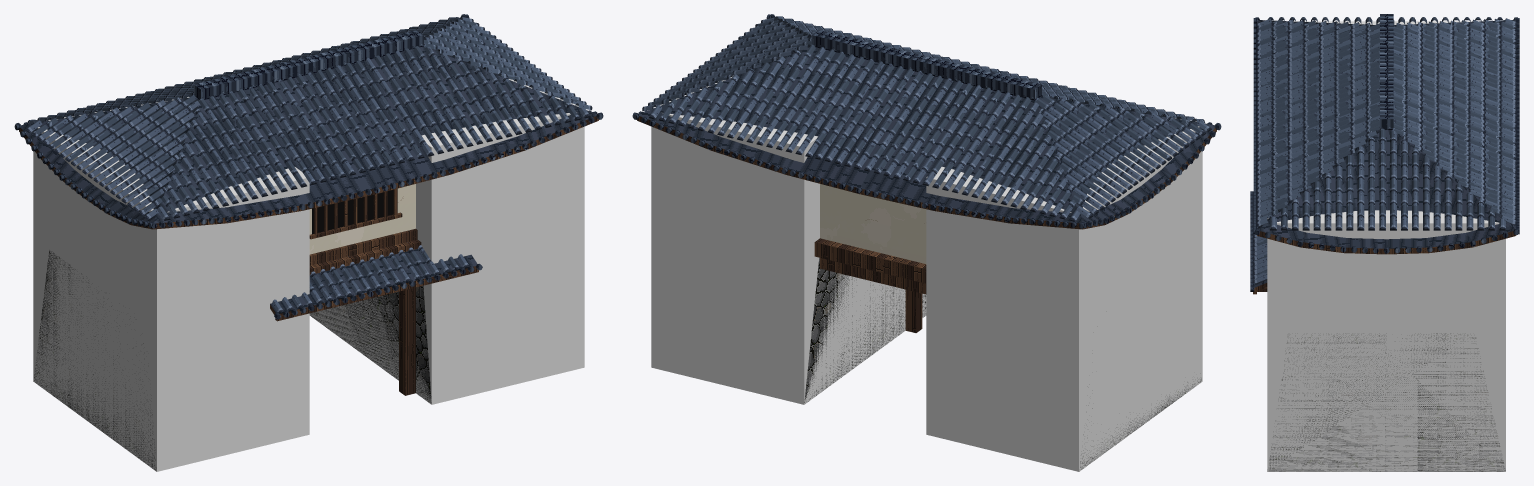
Rendered from JP_Rich_CityGate_A.glb.
3 views of the same model, side by side, from view 1: azimuth 30°, elevation 25°; view 2: azimuth 150°, elevation 25°; view 3: azimuth 270°, elevation 25° (orthographic). The views are drawn at different scales.
Parts seen in each view (by area): view 1: JP_Rich_CityGate_A, COL_JP_Rich_CityGate_A_L, COL_JP_Rich_CityGate_A_R; view 2: JP_Rich_CityGate_A, COL_JP_Rich_CityGate_A_L, COL_JP_Rich_CityGate_A_R; view 3: JP_Rich_CityGate_A, COL_JP_Rich_CityGate_A_R, COL_JP_Rich_CityGate_A_L.
Part boxes in pixels (x1,y1,x2,y2): JP_Rich_CityGate_A: (14,14,603,471); COL_JP_Rich_CityGate_A_L: (33,97,309,471); COL_JP_Rich_CityGate_A_R: (309,79,584,404); JP_Rich_CityGate_A: (632,14,1221,471); COL_JP_Rich_CityGate_A_L: (926,118,1202,471); COL_JP_Rich_CityGate_A_R: (651,75,926,404); JP_Rich_CityGate_A: (1250,14,1519,471); COL_JP_Rich_CityGate_A_R: (1267,210,1505,471); COL_JP_Rich_CityGate_A_L: (1294,21,1478,24).
Bounding box in the file's own units: 14.8 × 9.85 × 7.9.
Materials: 8 (8 with a texture image).
